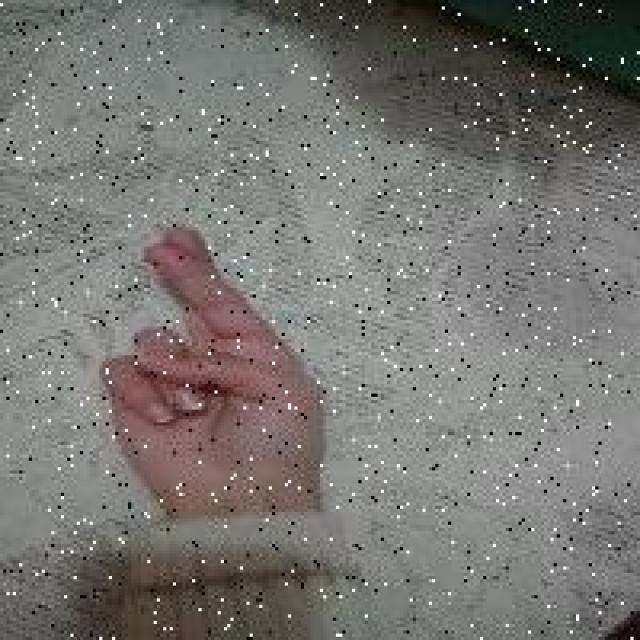R: (96, 214, 326, 516)
